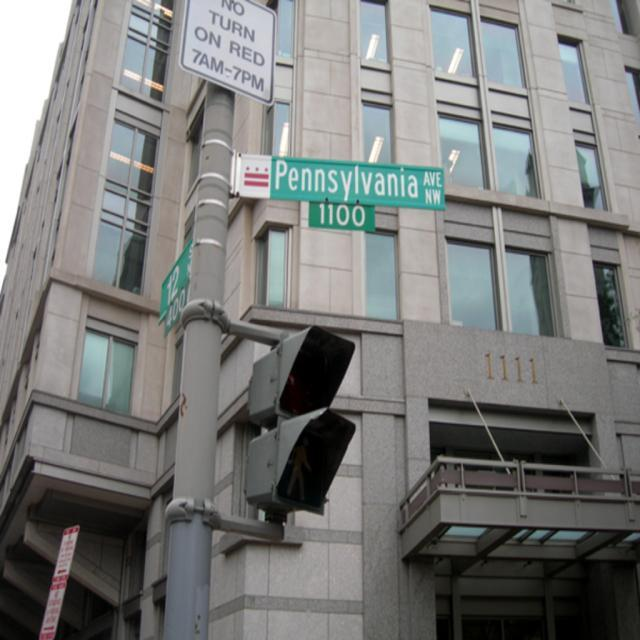off traffic light: (255, 328, 358, 517)
